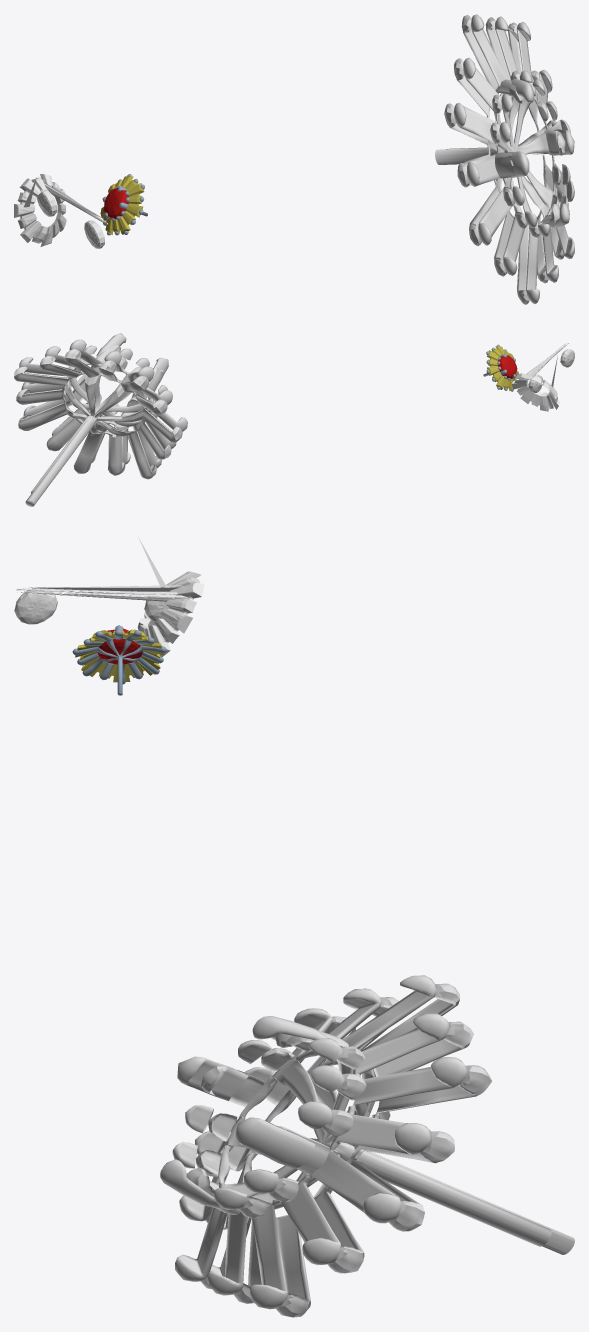
File: diamondring.glb
3 renders of one model, top to bottom at view 1: azimuth 30°, elevation 25°; view 2: azimuth 150°, elevation 25°; view 3: azimuth 270°, elevation 25°, orthographic. The views are drawn at different scales.
Visible parts, largest first — view 1: Object_3, Object_4, Object_3.001, Object_2.001, Object_4.001, Object_2; view 2: Object_3, Object_4, Object_3.001, Object_2.001, Object_4.001; view 3: Object_4, Object_3, Object_4.001, Object_3.001.
Part boxes in pixels (x1,y1,x2,y2): Object_3: (14, 15, 565, 304); Object_4: (446, 14, 574, 303); Object_3.001: (101, 176, 144, 234); Object_2.001: (103, 188, 128, 219); Object_4.001: (100, 174, 147, 235); Object_2: (36, 189, 57, 216); Object_3: (14, 343, 574, 506); Object_4: (19, 333, 187, 493); Object_3.001: (486, 346, 518, 390); Object_2.001: (498, 355, 517, 378); Object_4.001: (483, 344, 516, 391); Object_4: (160, 975, 551, 1309); Object_3: (14, 537, 574, 1317); Object_4.001: (72, 625, 166, 695); Object_3.001: (75, 629, 164, 682).
Bounding box in the file's own units: 20.96 × 8.65 × 11.22.
